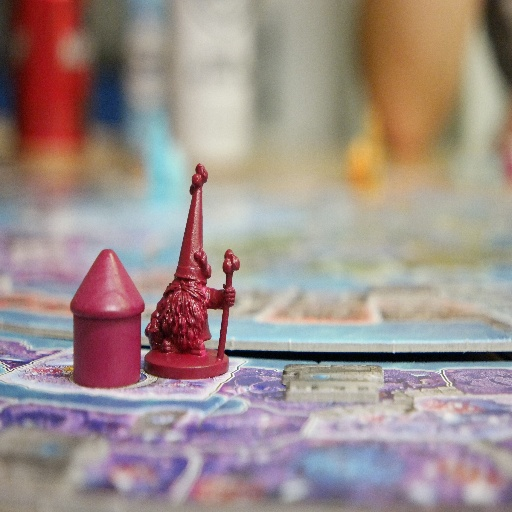hand: (222, 280, 236, 307)
